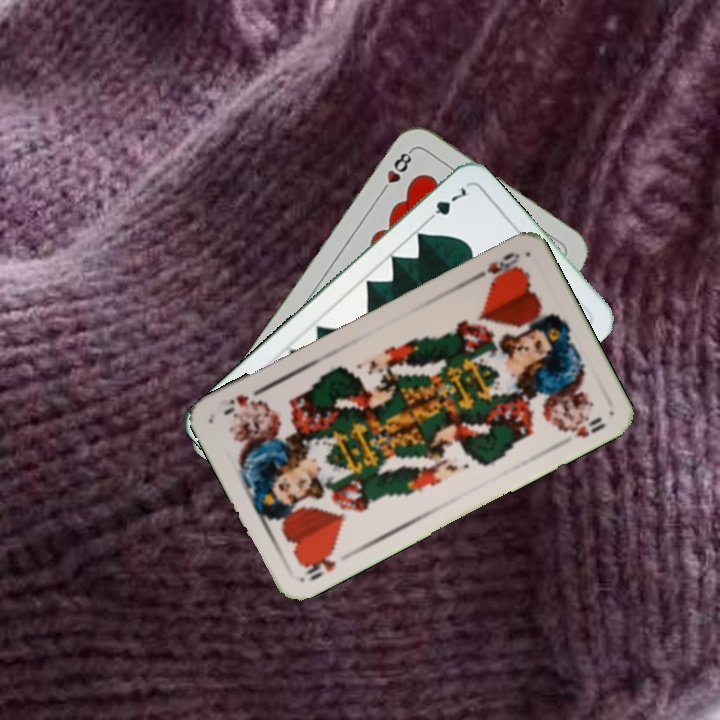G7: (421, 183, 471, 226)
H8: (376, 146, 415, 197)
HO: (468, 247, 523, 283), (299, 545, 340, 584)
